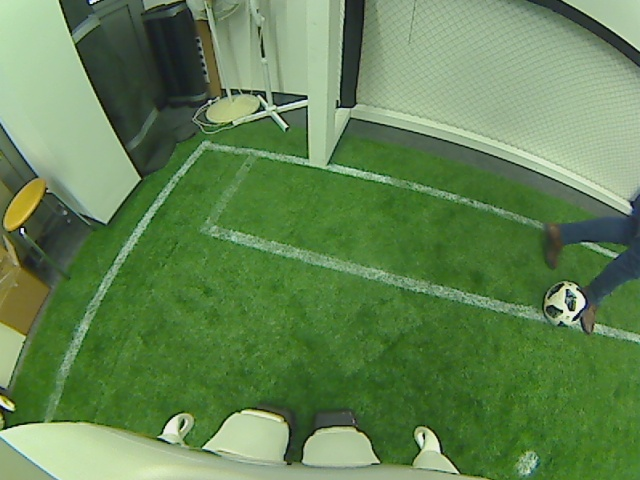ball: (543, 279, 593, 330)
